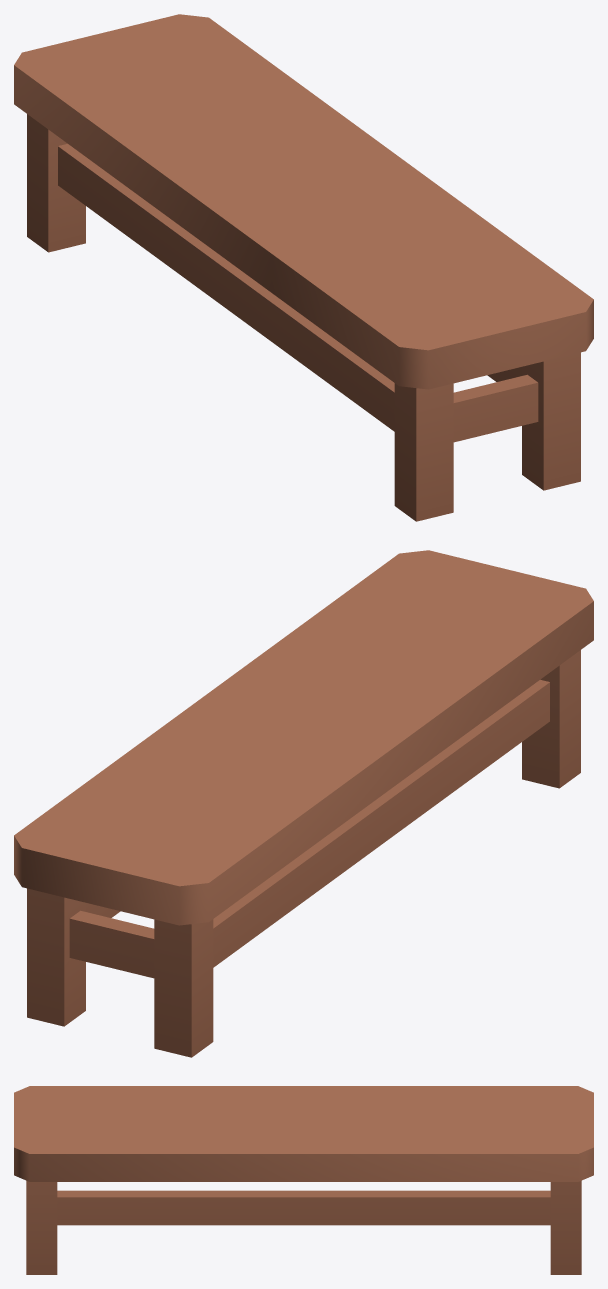
Rendered from T_stall-bench.glb.
3 renders of one model, top to bottom at view 1: azimuth 30°, elevation 25°; view 2: azimuth 150°, elevation 25°; view 3: azimuth 270°, elevation 25°, orthographic. The views are drawn at different scales.
Visible parts, largest first — view 1: stall-bench; view 2: stall-bench; view 3: stall-bench.
Part boxes in pixels (box(x1,y1,x2,y2)): stall-bench: box(14, 14, 593, 521); stall-bench: box(14, 550, 593, 1057); stall-bench: box(14, 1086, 593, 1274).
Size of the model in its own units: 0.2601 by 0.2255 by 0.94.
